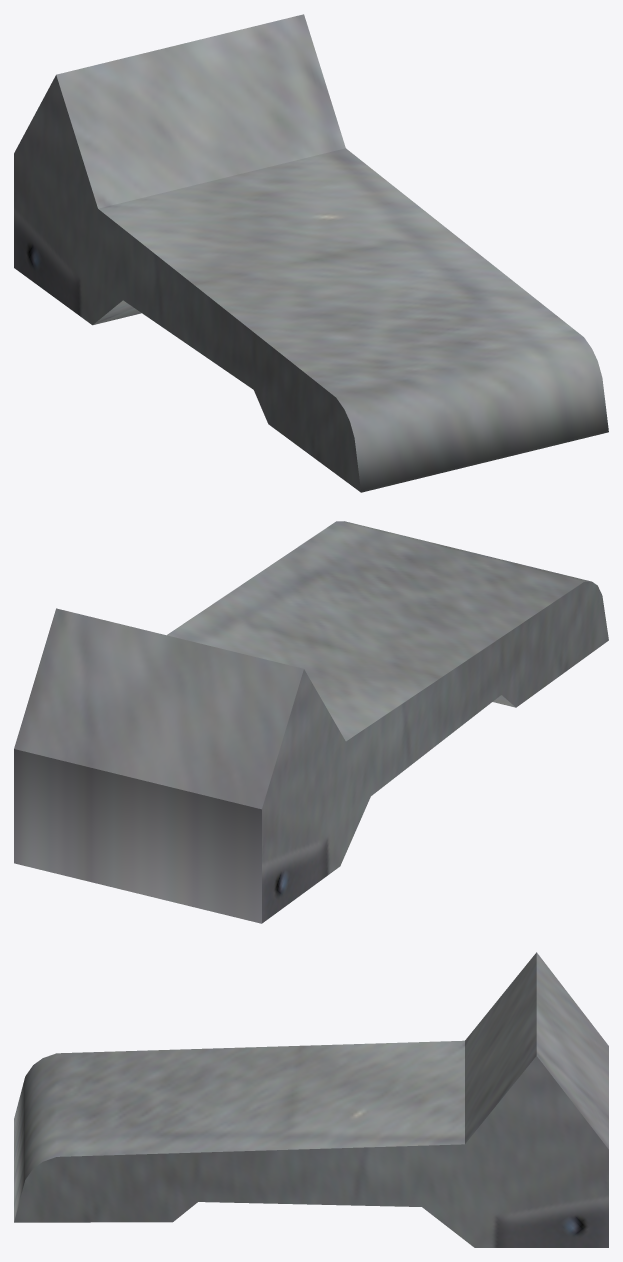
Rendered from claw.obj.
The picture shows the model from 3 angles, top to bottom: view 1: azimuth 30°, elevation 25°; view 2: azimuth 150°, elevation 25°; view 3: azimuth 270°, elevation 25°; orthographic projection. The views are drawn at different scales.
Visible parts, largest first — view 1: halfclaw; view 2: halfclaw; view 3: halfclaw.
Part boxes in pixels (left/top/right/bottom): halfclaw: left=14, top=14, right=608, bottom=492; halfclaw: left=14, top=521, right=608, bottom=923; halfclaw: left=14, top=952, right=608, bottom=1247.
Size of the model in its own units: 0.0868 by 0.075 by 0.2106.
Materials: 1 (1 with a texture image).
